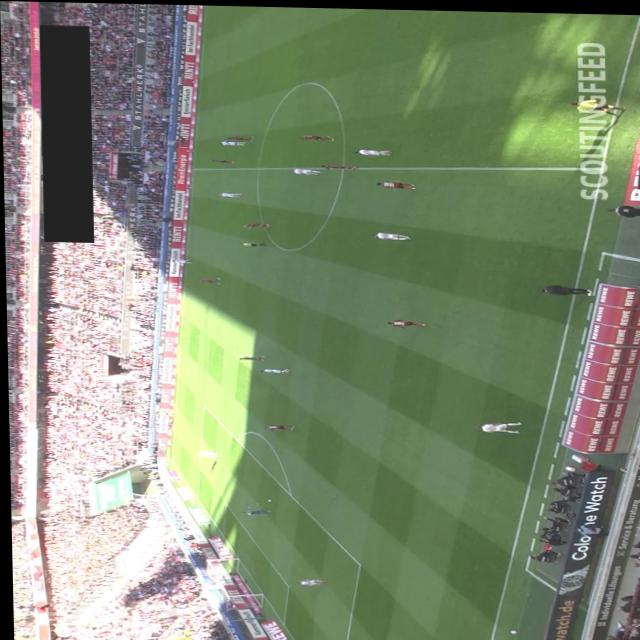goalkeeper: (239, 505, 270, 514)
player: (473, 418, 521, 431), (375, 178, 415, 189), (384, 316, 425, 326), (370, 229, 410, 238), (353, 147, 391, 154), (293, 576, 325, 584), (297, 132, 333, 139), (290, 166, 322, 173), (261, 422, 293, 429), (257, 365, 289, 372), (320, 162, 356, 168), (241, 220, 269, 227), (227, 133, 253, 140), (193, 449, 218, 456), (197, 276, 219, 283), (217, 190, 241, 196), (219, 139, 245, 144), (237, 354, 263, 359), (171, 257, 192, 263), (210, 157, 234, 162)
referee: (570, 96, 625, 113), (237, 240, 265, 245), (153, 410, 175, 416)
